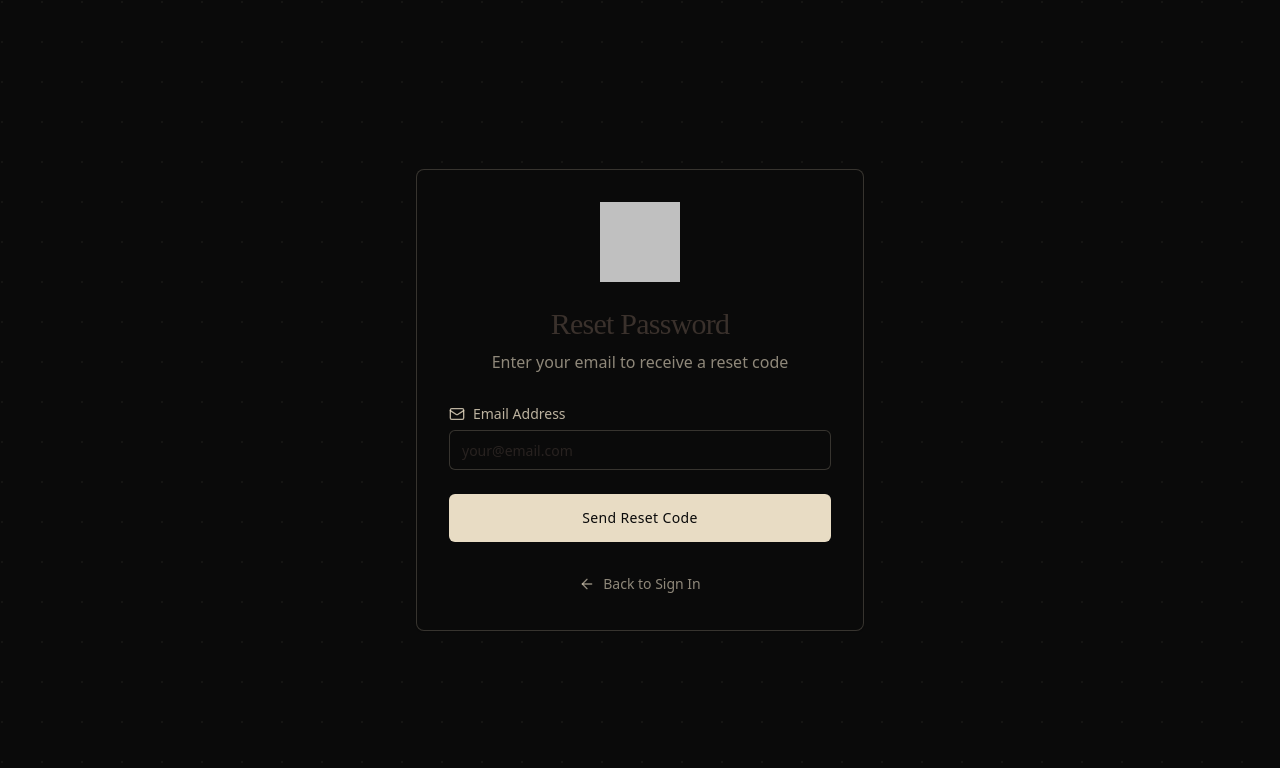
ForgotPasswordPage › verifies the code and updates the password
In the field labelled "Email Address": (640, 450) [449,430,831,470], type "chef@example.com"
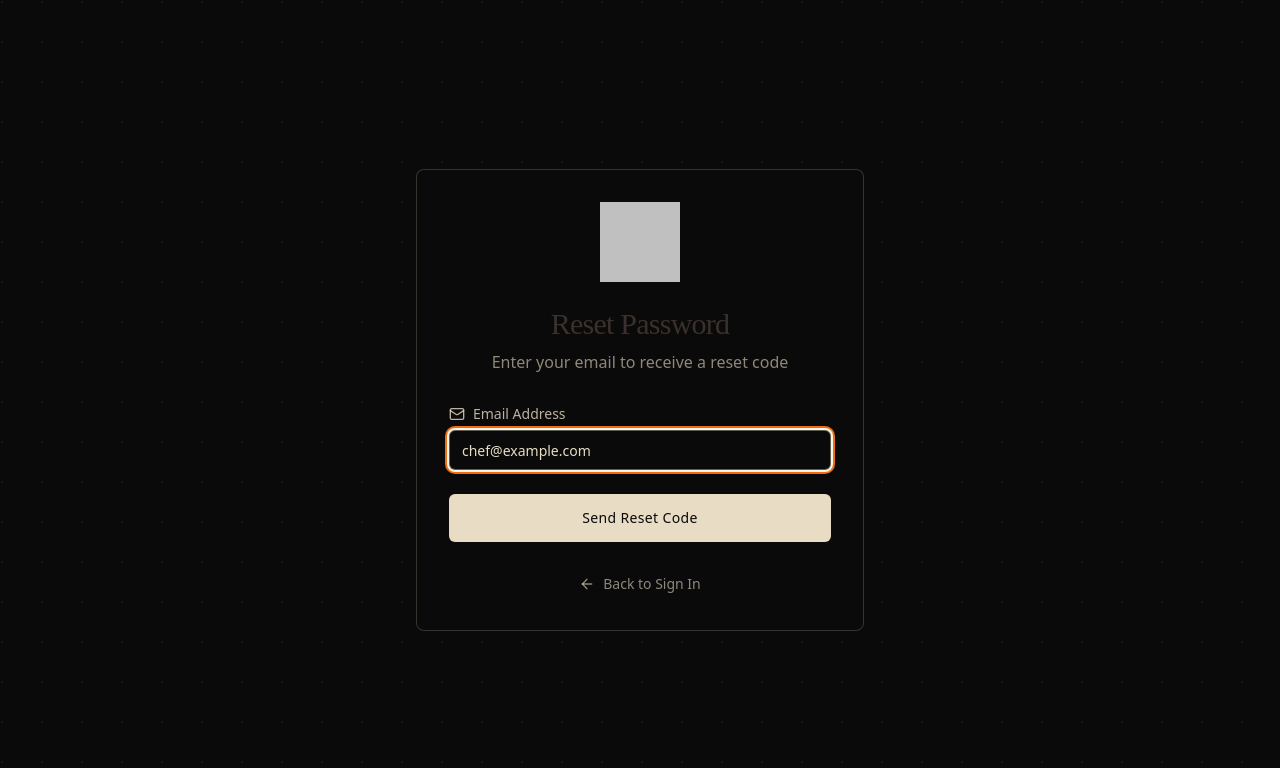
Click the button "Send Reset Code": (640, 518) [449,494,831,542]
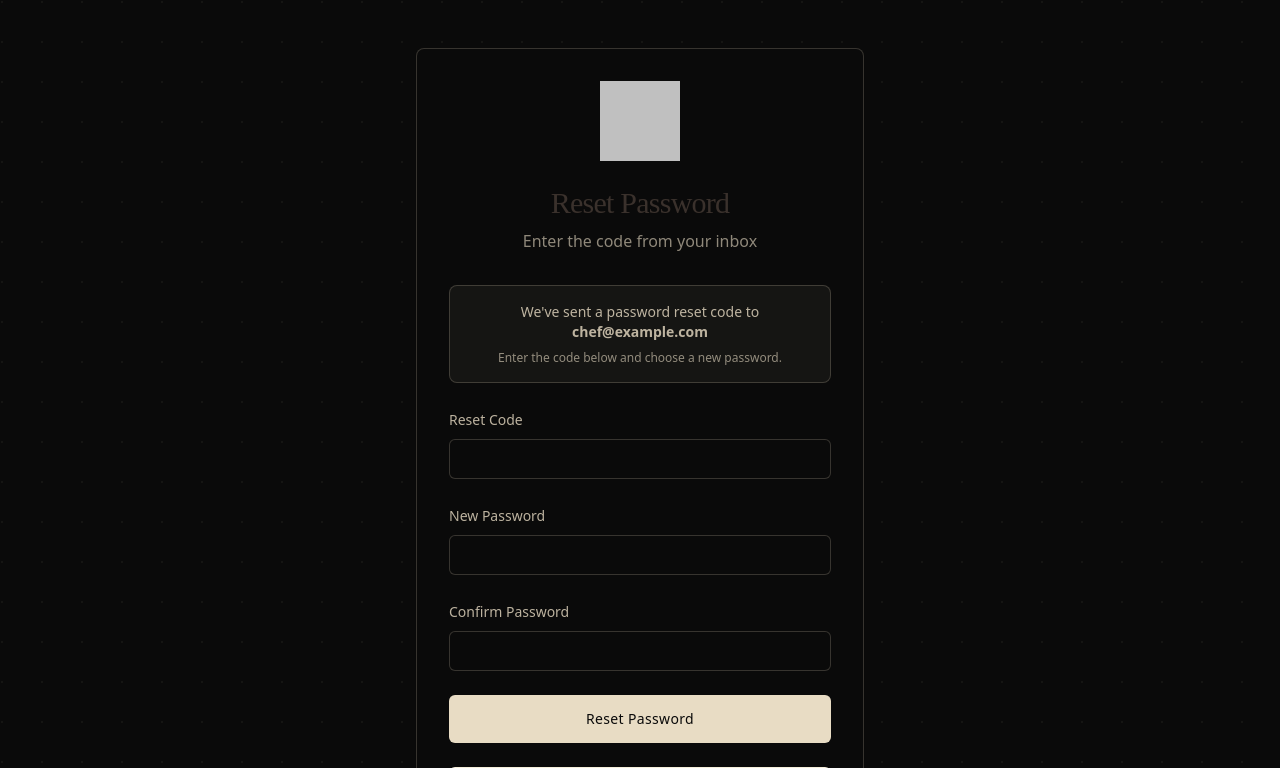
In the field labelled "Reset Code": (640, 459) [449,439,831,479], type "123456"
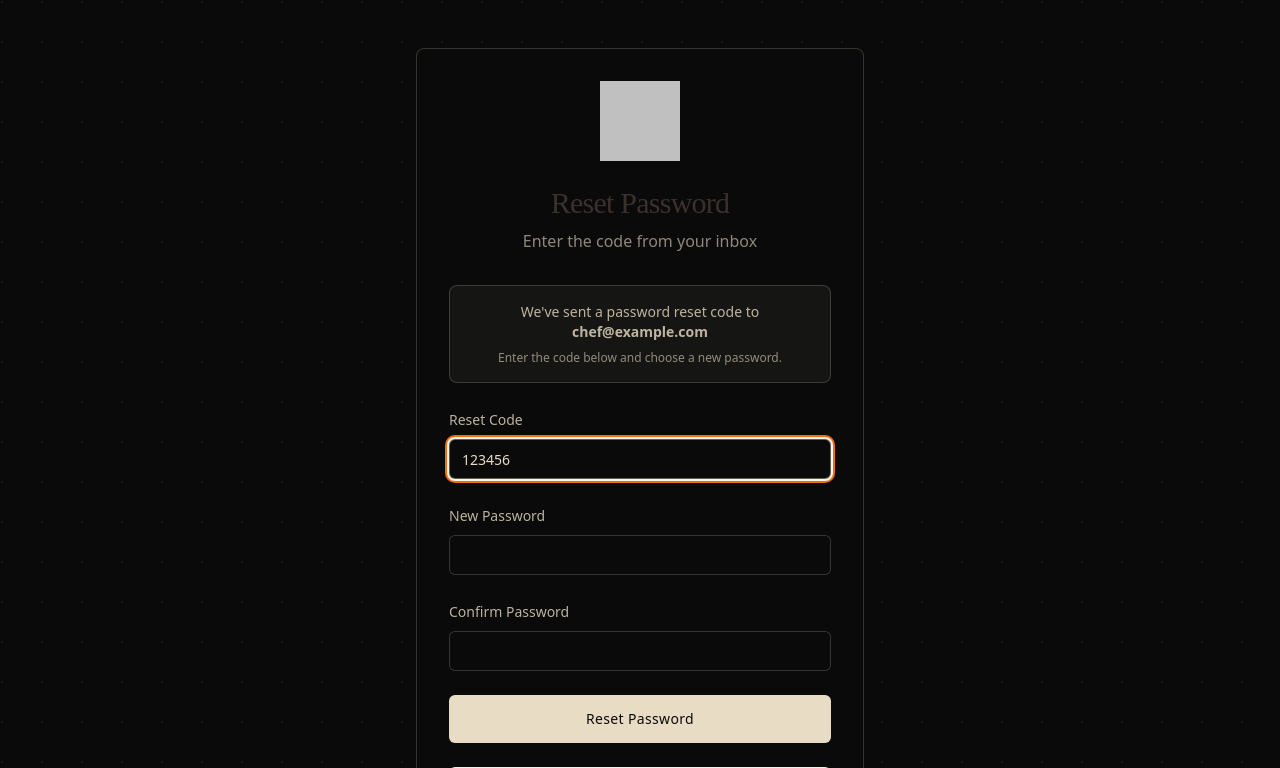
In the password field labelled "New Password": (640, 555) [449,535,831,575], type "newpass1"
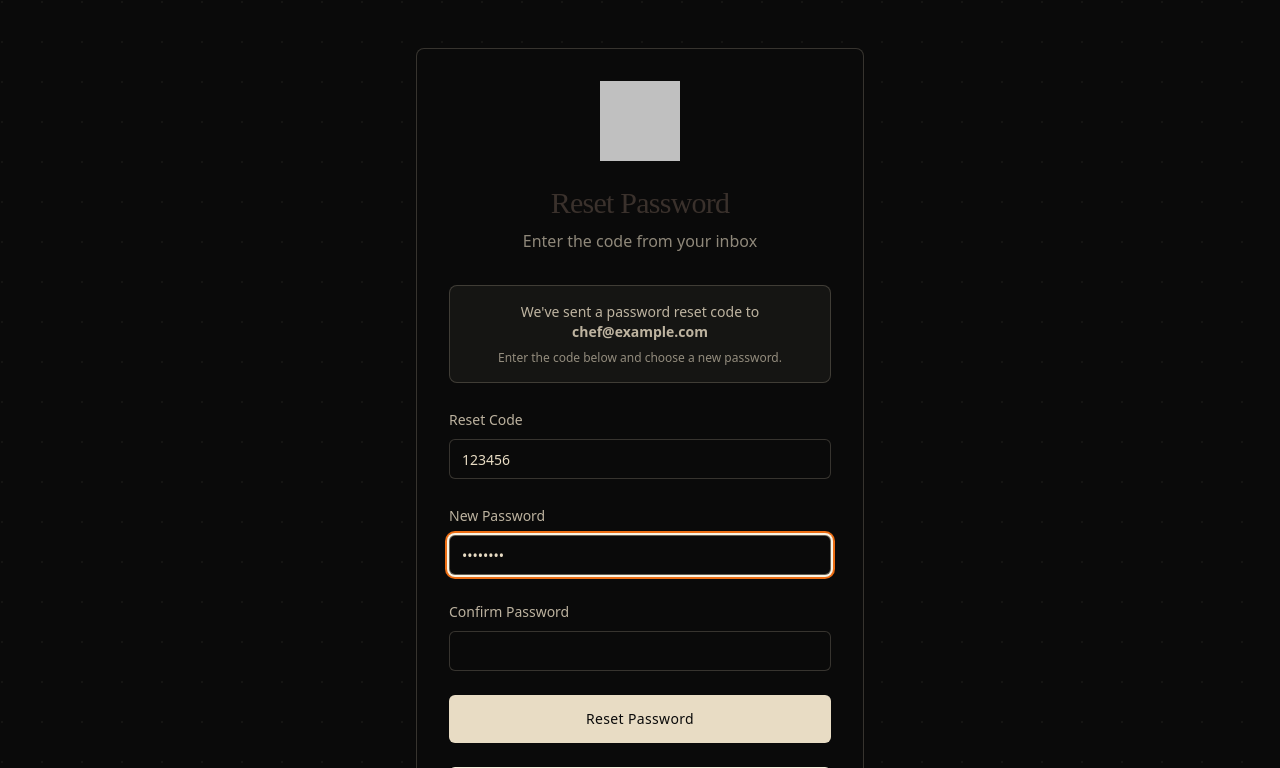
In the password field labelled "Confirm Password": (640, 651) [449,631,831,671], type "newpass1"
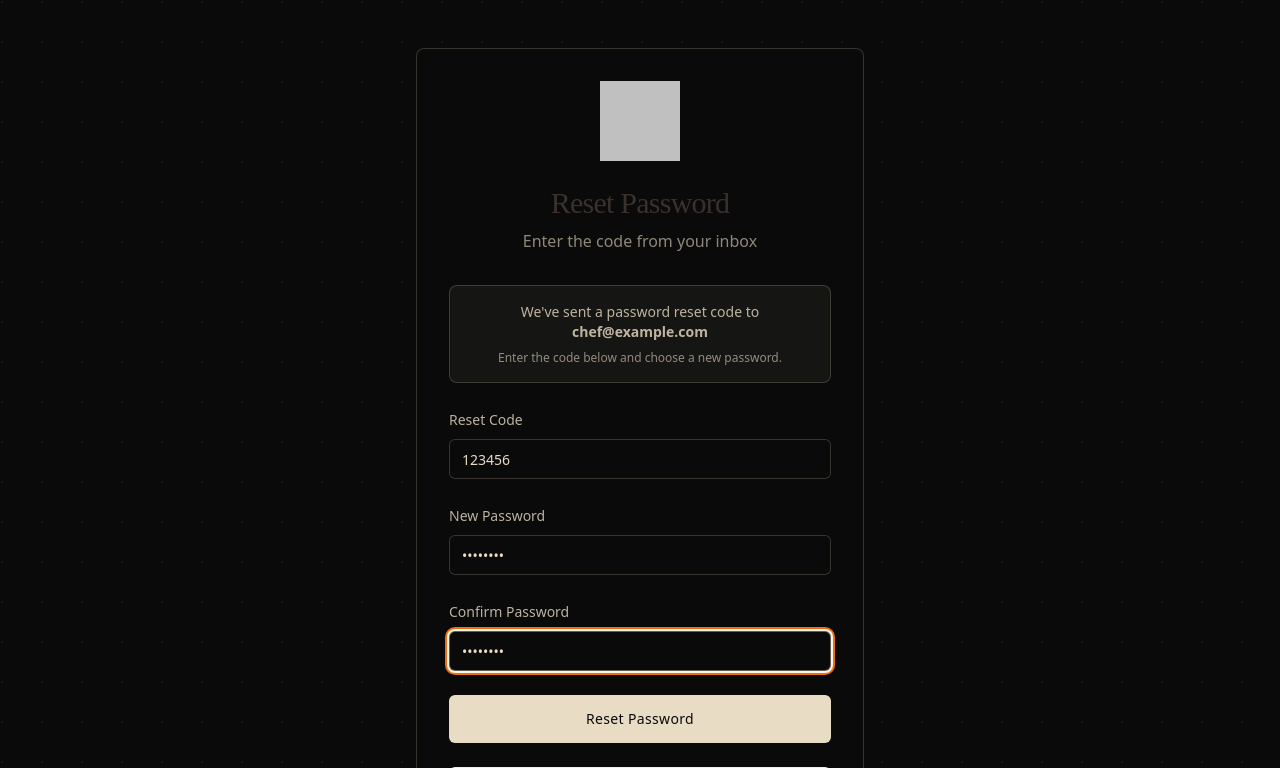
Click the button "Reset Password": (640, 719) [449,695,831,743]
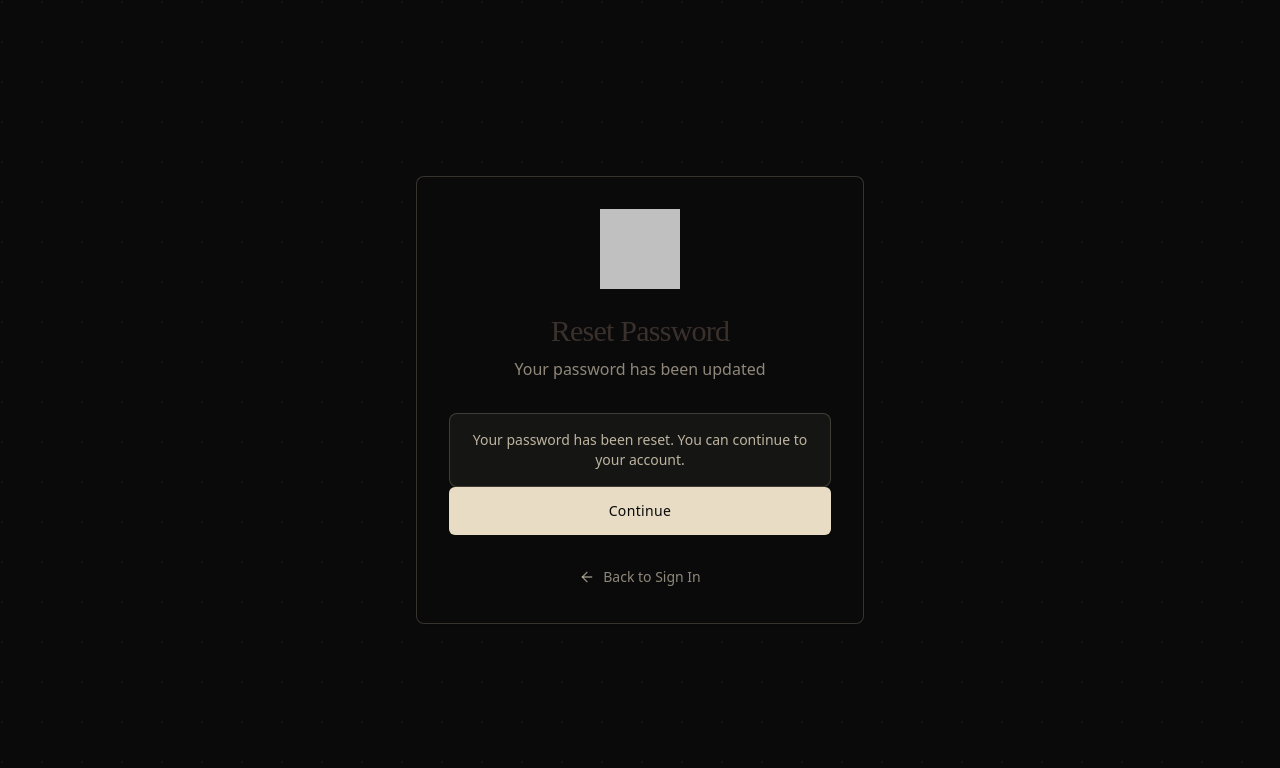
Result: the text "Your password has been reset" is shown at [473,430,807,469]
